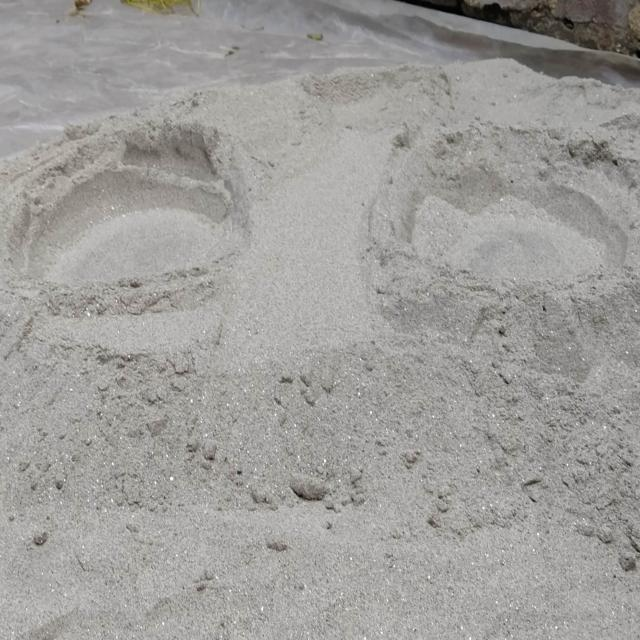C20: (4, 118, 249, 285), (405, 128, 637, 284)
